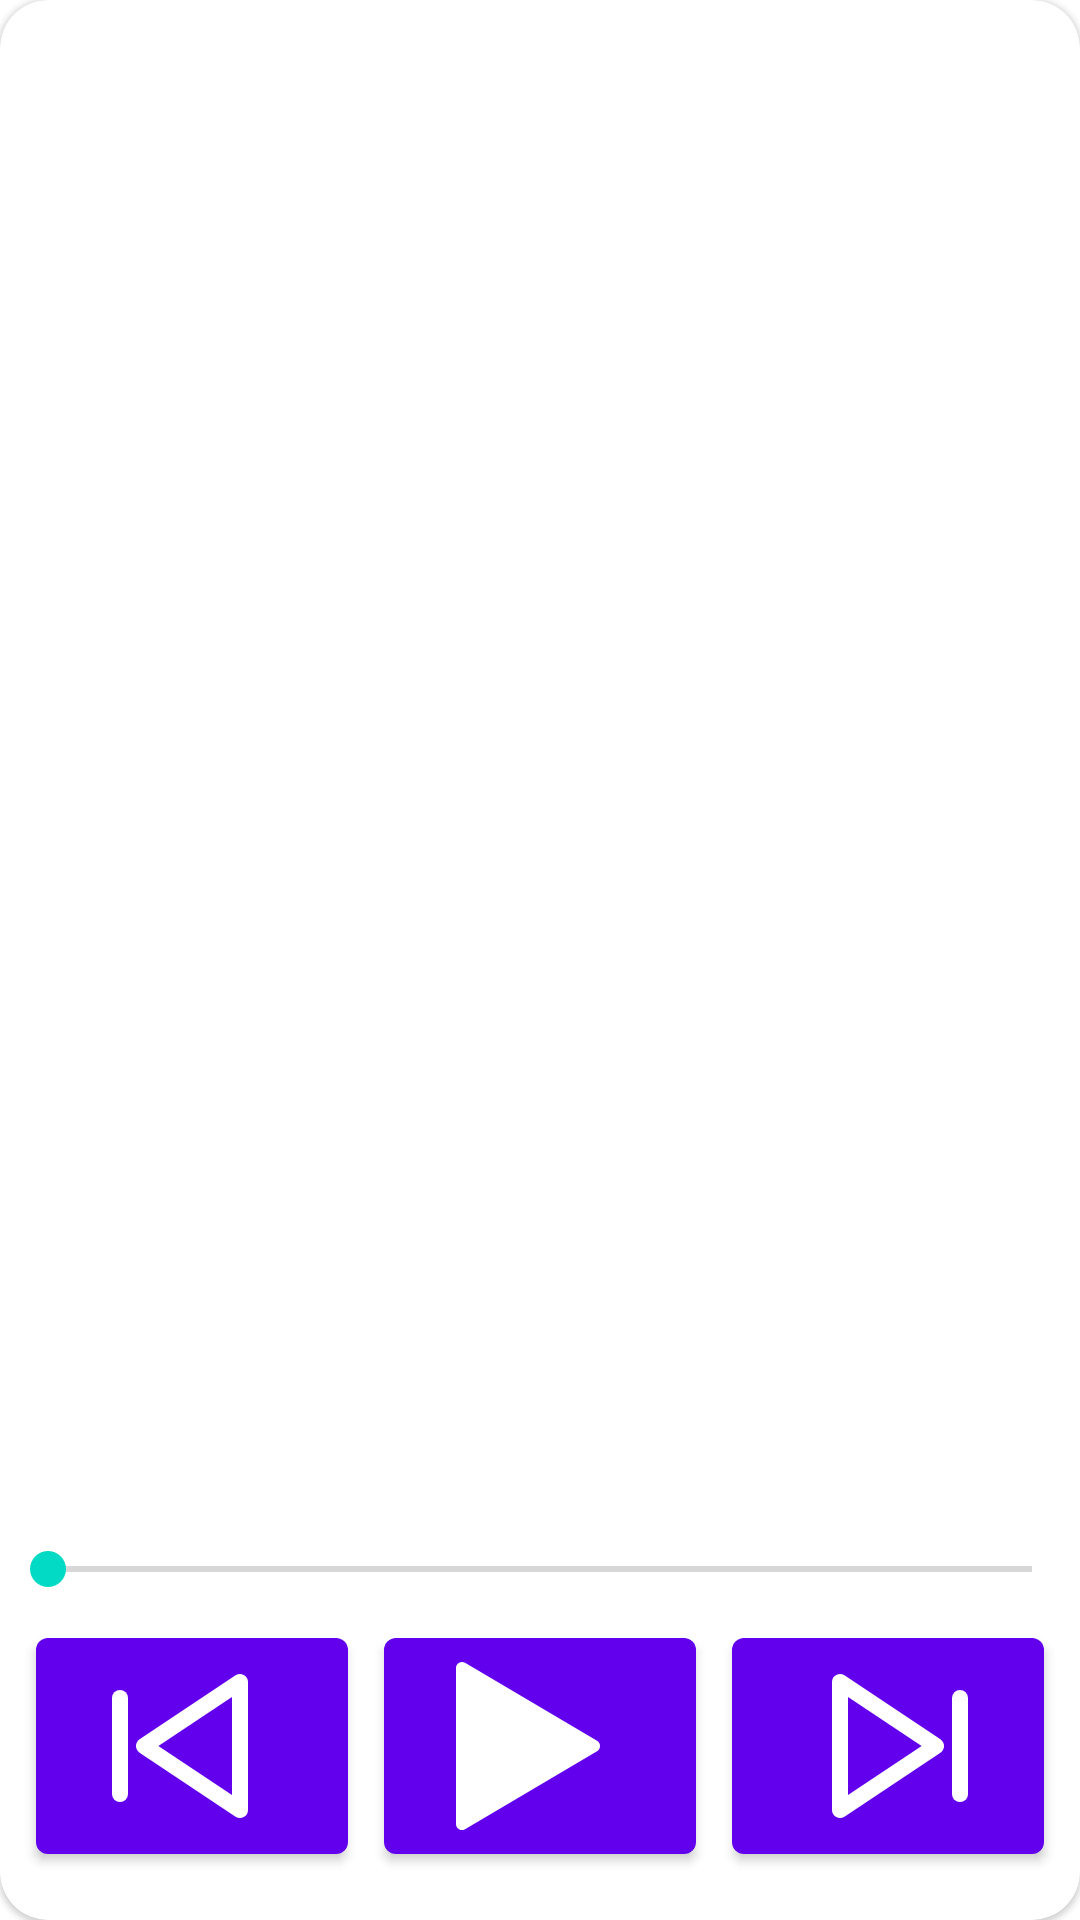

Where to tap for icons on this 1080*1920 app screen, as [x,y]:
play: [540,1749]
